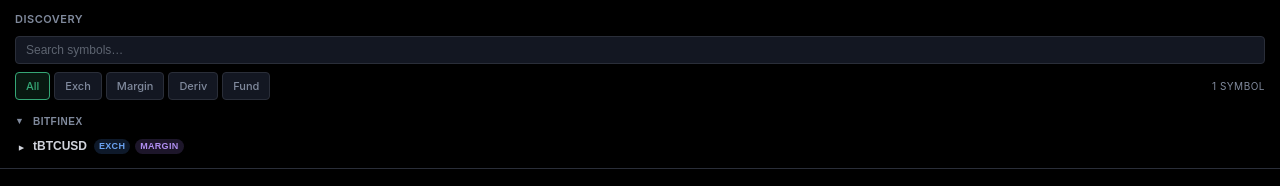
Test: CorkyDiscoveryPanel — collapse / add-timeframe / indicator gating › clicking the exchange toggle hides the ticker list
Click the button with class "corky-venue-toggle". click: [58, 122]
box: x1=15 y1=112 x2=1265 y2=131
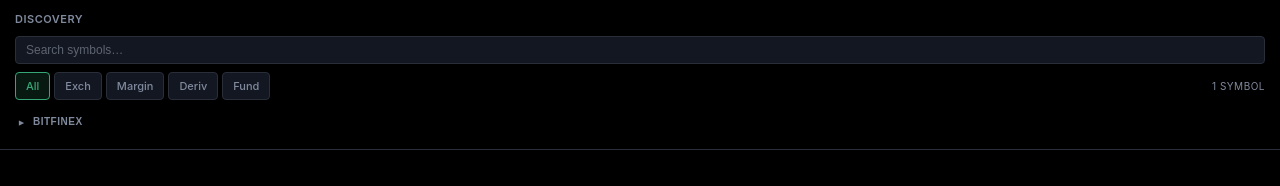
expect the button with class "corky-venue-toggle" is collapsed: met, box x1=15 y1=112 x2=1265 y2=131
expect the element with class "corky-symbols-list" is gone: met
